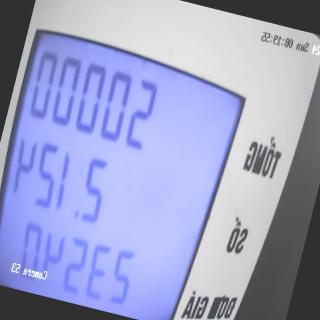screen: (0, 11, 257, 320)
